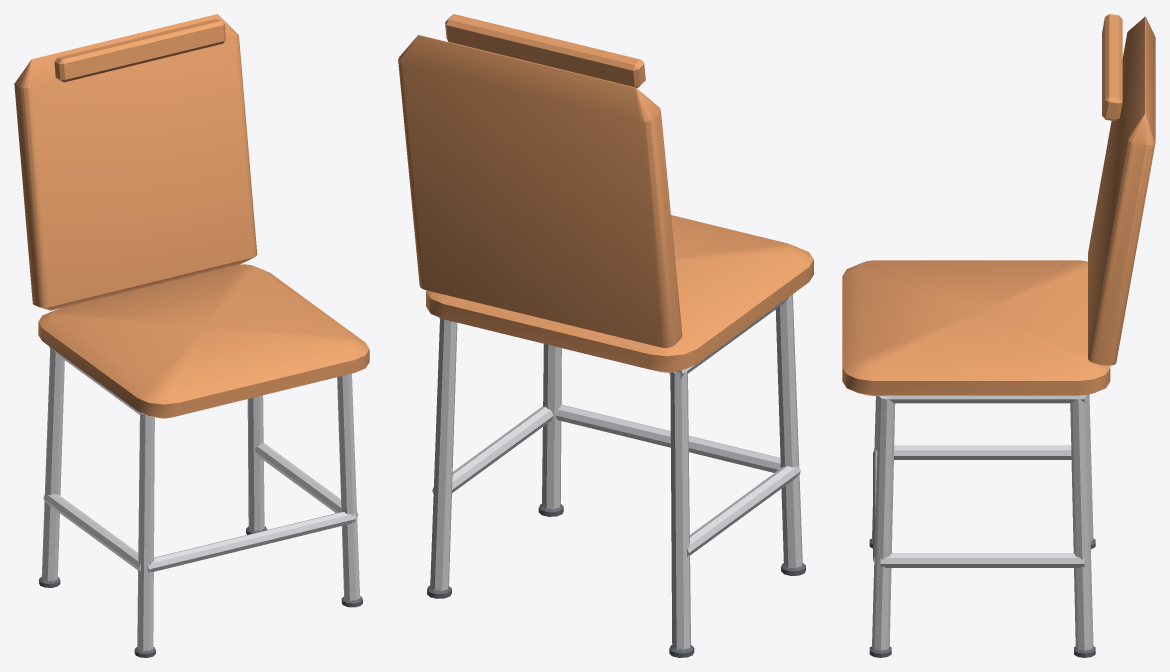
File: seminar-chair.glb
3 renders of one model, left to right at view 1: azimuth 30°, elevation 25°; view 2: azimuth 150°, elevation 25°; view 3: azimuth 270°, elevation 25°, orthographic. The views are drawn at different scales.
Parts seen in each view (by area): view 1: stackable-chair; view 2: stackable-chair; view 3: stackable-chair.
Part boxes in pixels (x1,y1,x2,y2): stackable-chair: [14, 14, 369, 657]; stackable-chair: [398, 14, 813, 657]; stackable-chair: [842, 14, 1155, 657].
Size of the model in its own units: 0.44 by 0.9412 by 0.4909.
